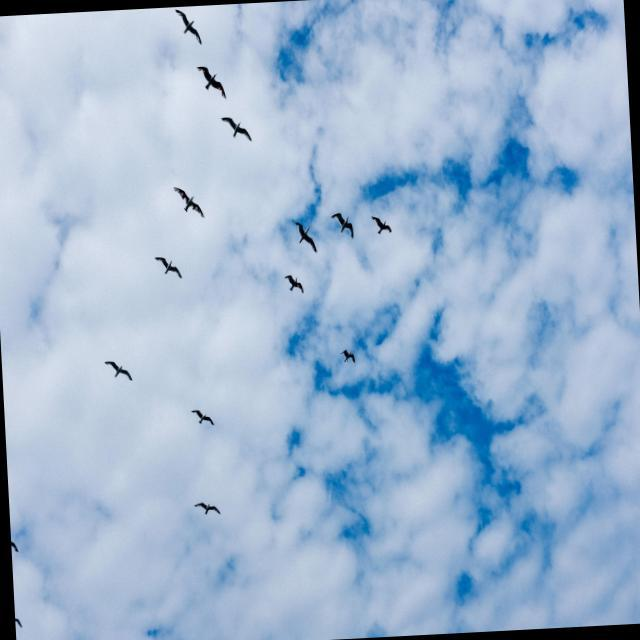bird: (195, 63, 229, 102), (172, 183, 206, 221), (173, 8, 204, 47), (220, 114, 254, 144), (293, 220, 319, 257), (153, 253, 184, 282), (104, 357, 135, 384), (330, 211, 355, 241), (190, 408, 216, 431), (283, 274, 306, 298), (193, 501, 223, 519), (370, 213, 394, 235), (340, 348, 358, 367)
